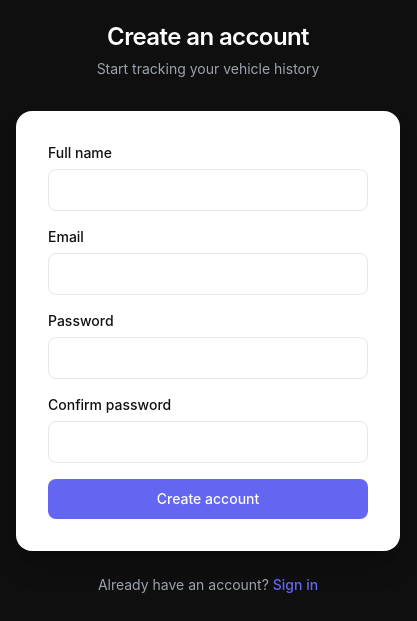
Test: RegisterPage › shows email validation error
Type "Test User" into the field labelled "Full name" at (208, 190), box [48,169,368,211]
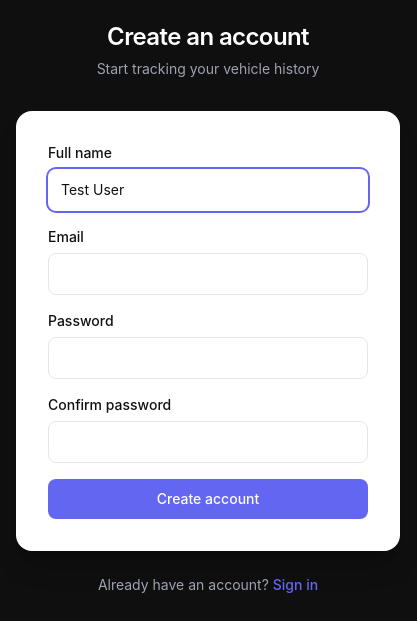
Type "not-an-email" into the field labelled "Email" at (208, 274), box [48,253,368,295]
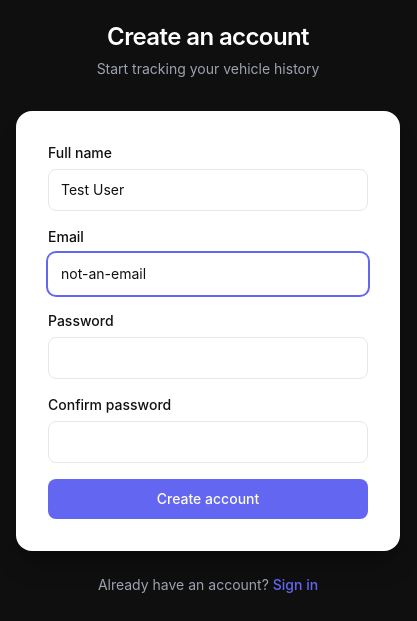
Type "password123" into the password field labelled "Password" at (208, 358), box [48,337,368,379]
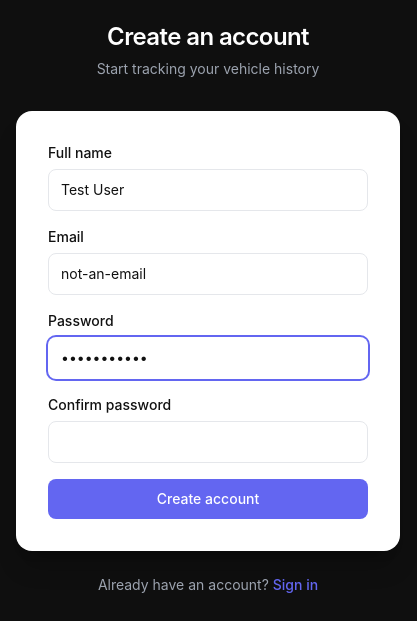
Type "password123" into the password field labelled "Confirm password" at (208, 442), box [48,421,368,463]
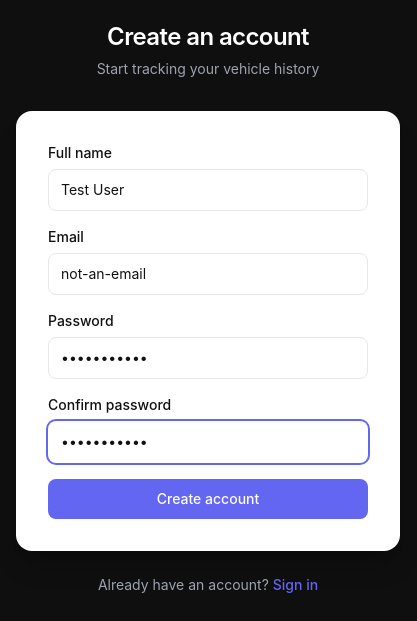
Click the button "Create account" at (208, 499), box [48,479,368,519]
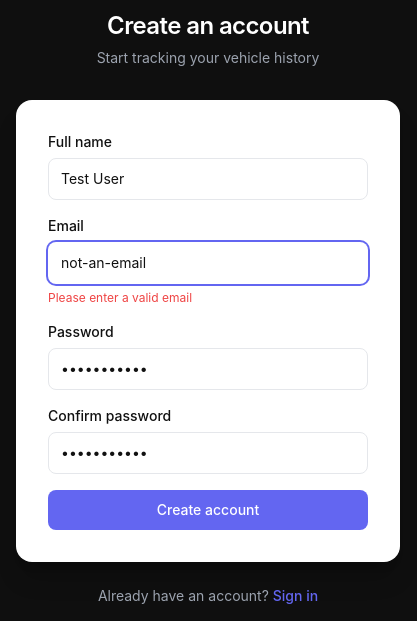
Now the text "Please enter a valid email" is shown, box [48,290,192,305]
